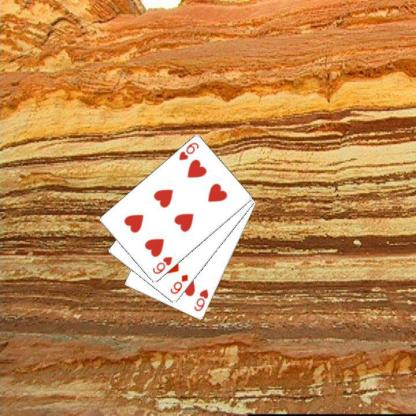6D: (167, 272, 190, 296)
6H: (176, 140, 201, 162), (150, 254, 173, 276), (191, 286, 210, 312)
